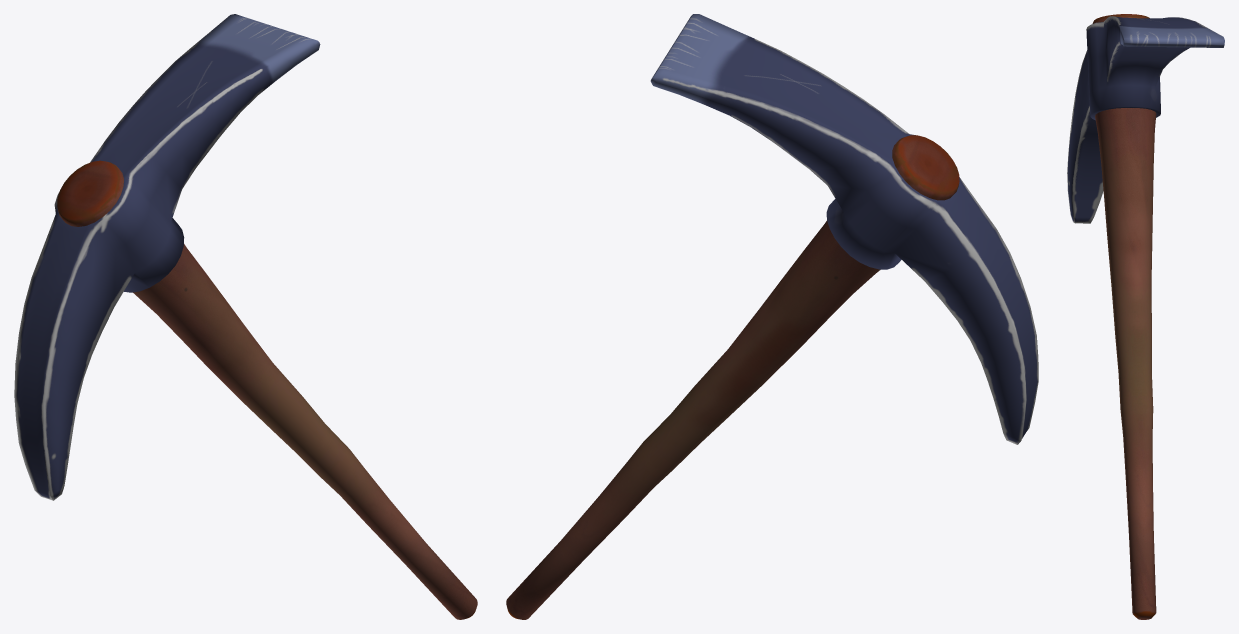
The model's file is Pico.glb.
3 views of the same model, side by side, from view 1: azimuth 30°, elevation 25°; view 2: azimuth 150°, elevation 25°; view 3: azimuth 270°, elevation 25° (orthographic). The views are drawn at different scales.
Visible parts, largest first — view 1: 2_low, 1_low; view 2: 2_low, 1_low; view 3: 1_low, 2_low.
Part boxes in pixels (box(x1,y1,x2,y2)): 2_low: box(14, 14, 320, 500); 1_low: box(57, 160, 477, 619); 2_low: box(650, 14, 1038, 444); 1_low: box(506, 135, 959, 619); 1_low: box(1092, 14, 1156, 619); 2_low: box(1067, 16, 1224, 223).
Bounding box in the file's own units: 0.4233 × 0.523 × 0.1441.
Materials: 1 (1 with a texture image).
